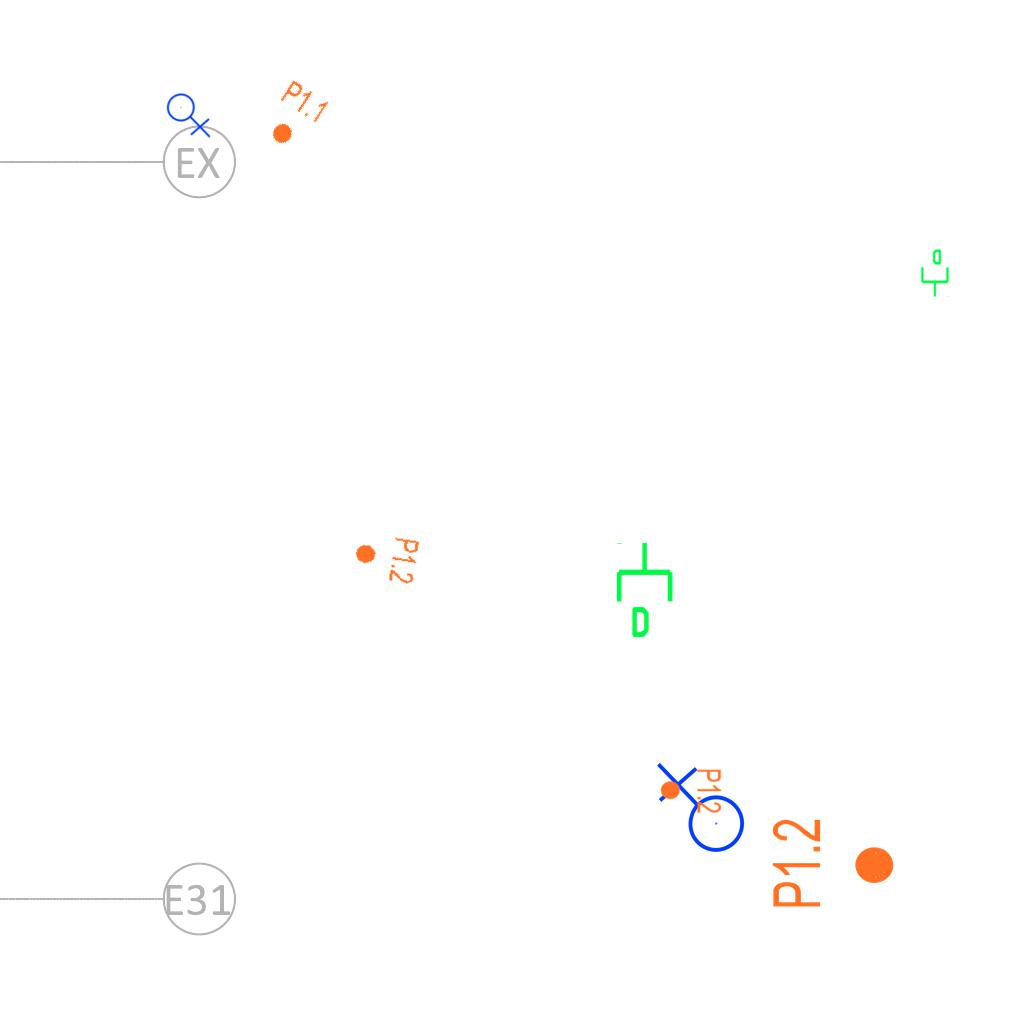Datenanschluss_einfach: (612, 540, 681, 640), (917, 248, 951, 298)
Downlight_LED_Einbauleuchten_Flur: (769, 817, 897, 910), (258, 77, 332, 157), (350, 530, 422, 586), (659, 768, 723, 814)
Elektroanschluss_allgemein_230V_Geraeteanschlussdose_230V: (652, 762, 746, 861), (166, 89, 213, 138)
